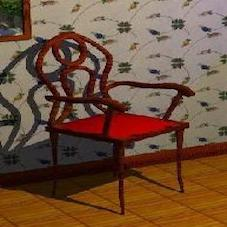chair: (6, 8, 211, 214)
